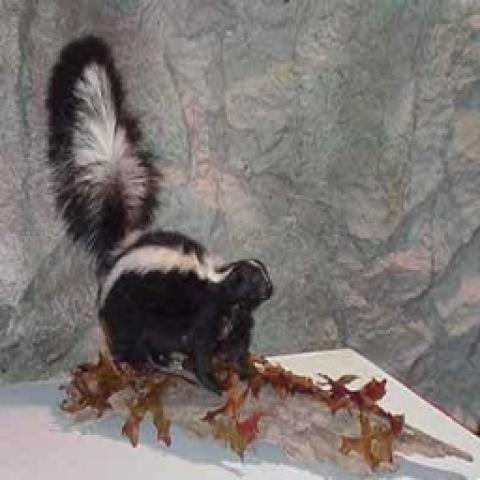small_animal: (45, 35, 275, 394)
